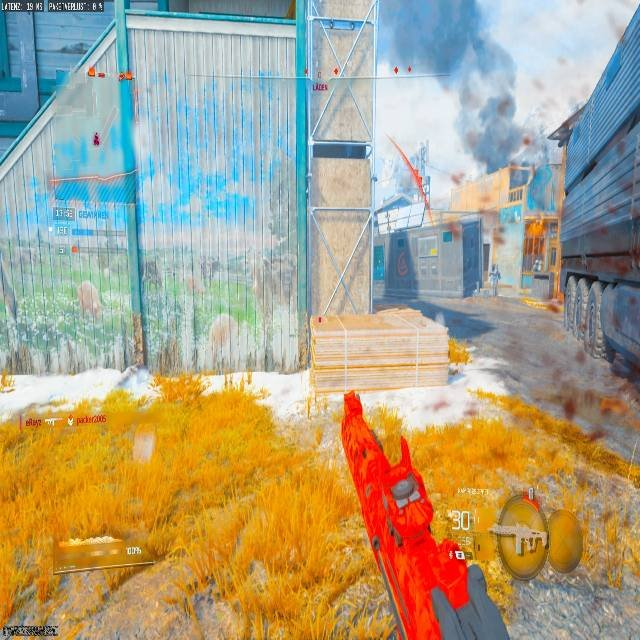player: (489, 264, 500, 289)
